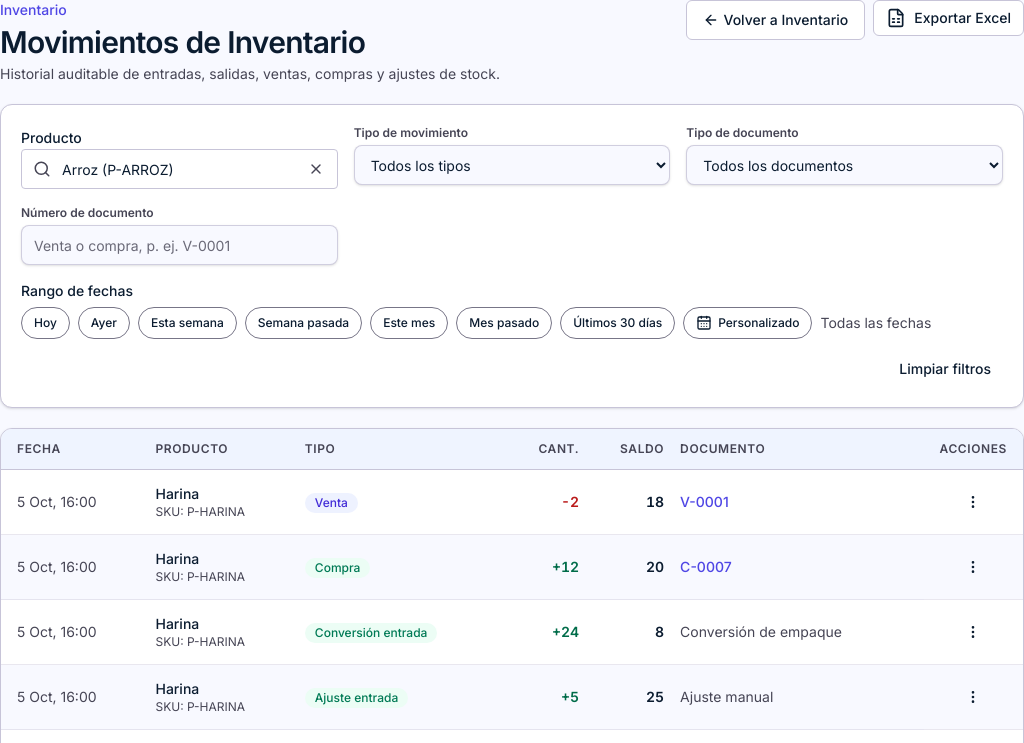
Test case: InventoryMovementsPage · filtros en servidor y en la URL › filtro de producto › lets the product be removed
Expected: the dropdown labelled "Producto" holds "Arroz (P-ARROZ)", [21,149,338,189]
Click the button named "Limpiar Producto": point(316, 169) [302,155,330,183]
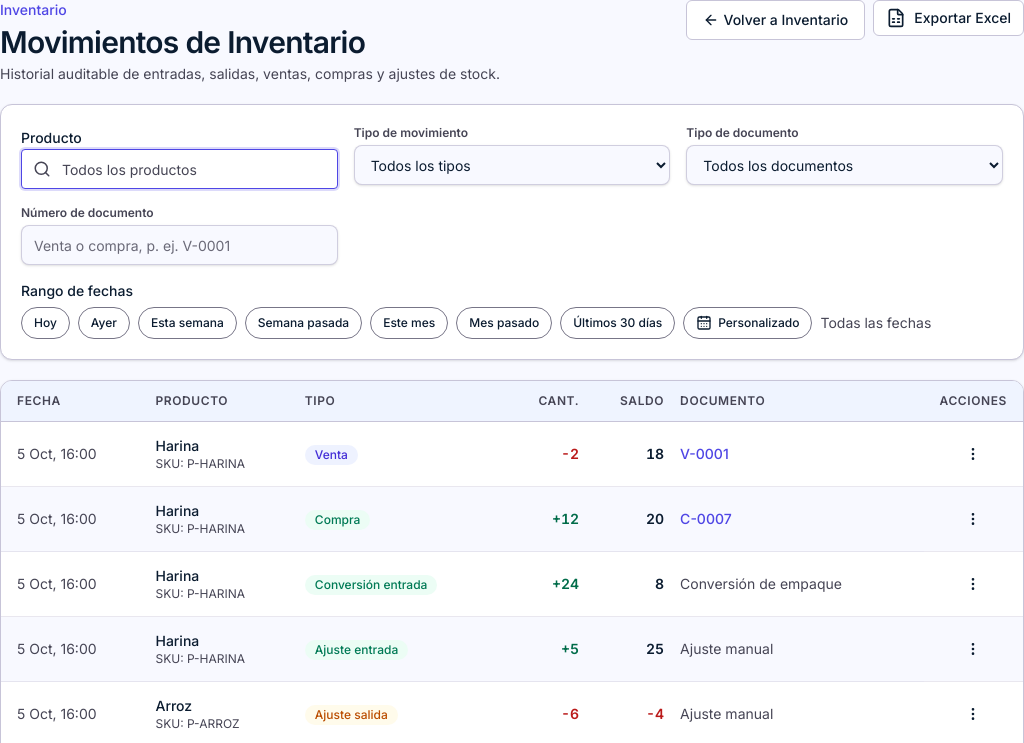
Expected: the dropdown labelled "Producto" is empty, [21,149,338,189]
